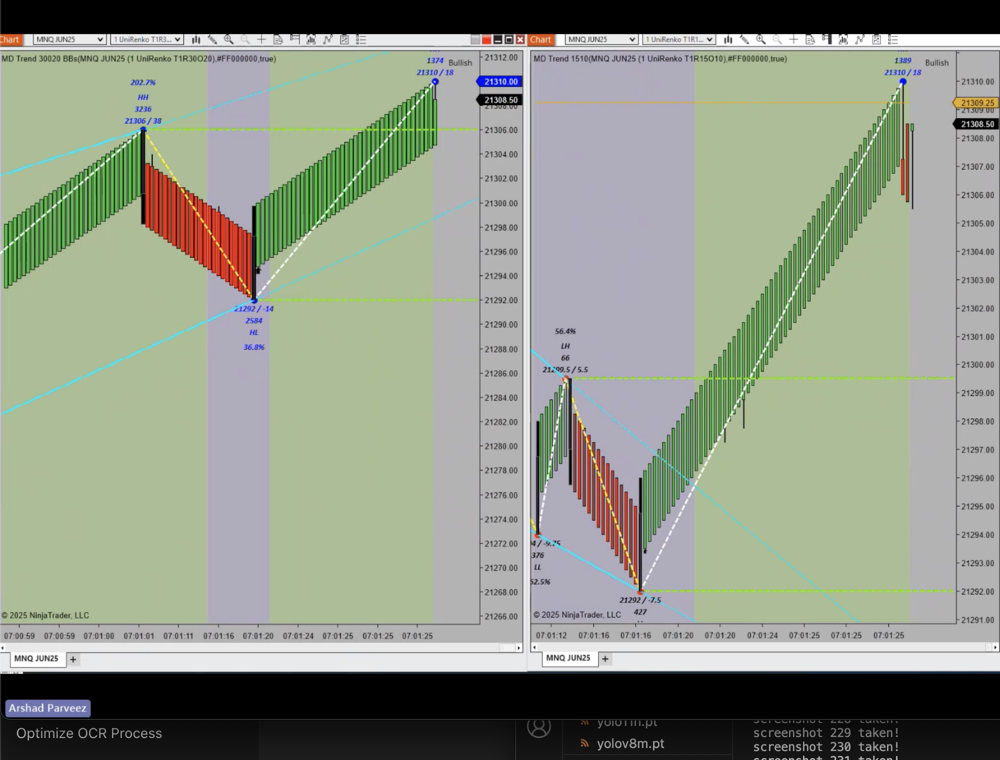HH: (129, 90, 161, 105)
HL: (241, 322, 270, 339)
LH: (554, 336, 577, 353)
LL: (528, 558, 549, 577)
